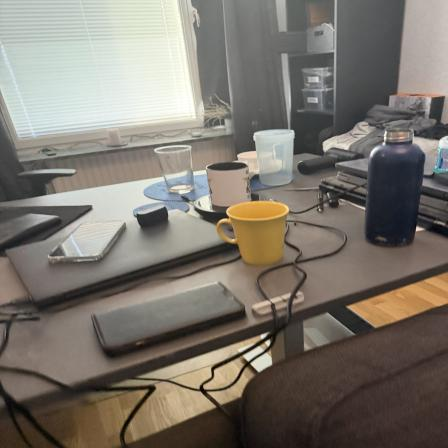blue_bottle: (367, 127, 423, 246)
phone: (90, 285, 249, 351), (52, 219, 126, 267), (0, 214, 60, 250)
yellow_cup: (218, 201, 292, 268)
